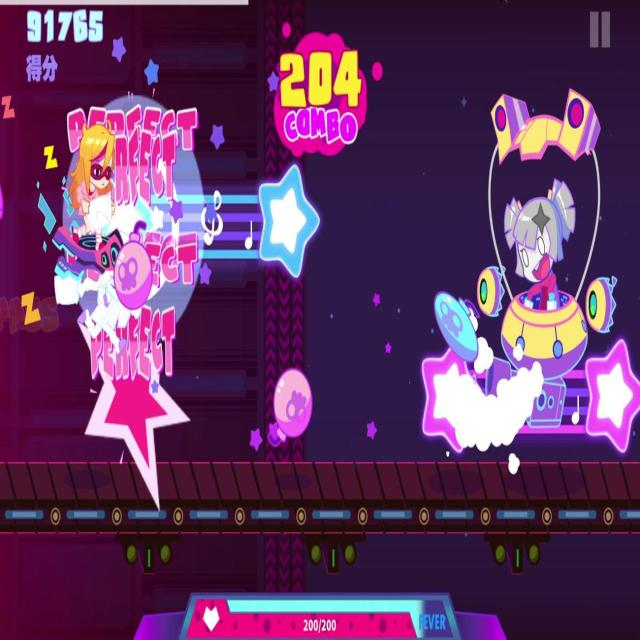hold: (422, 341, 640, 461), (110, 163, 324, 282)
tang: (267, 363, 313, 450)
